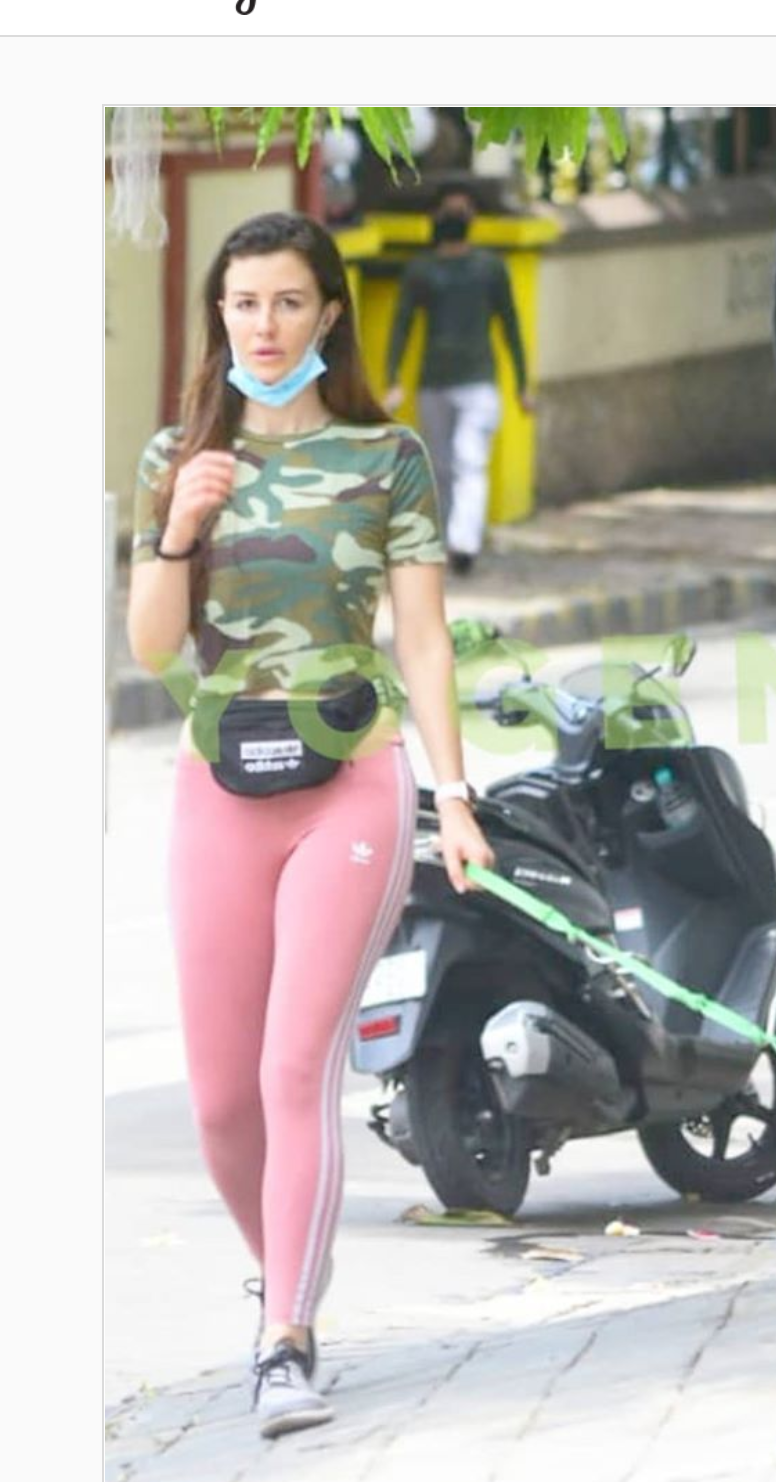mask_weared_incorrect: (210, 260, 347, 408)
